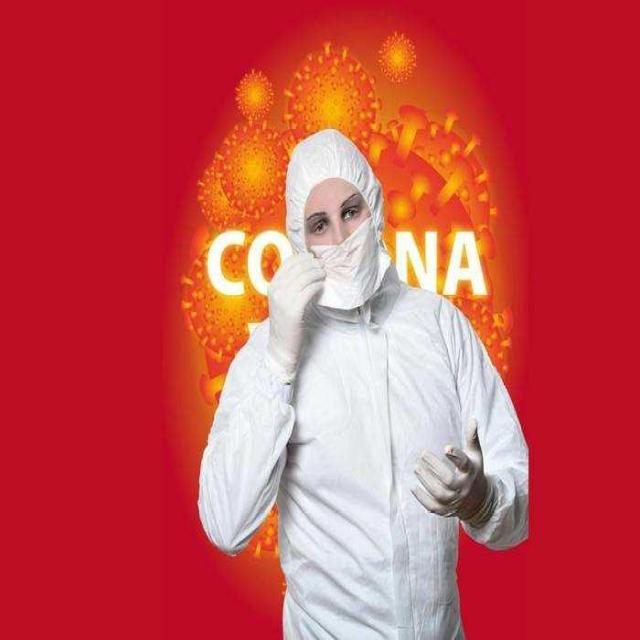Coverall: (149, 134, 538, 605)
Gloves: (376, 368, 505, 540), (264, 232, 332, 370)
Mask: (295, 224, 404, 306)
